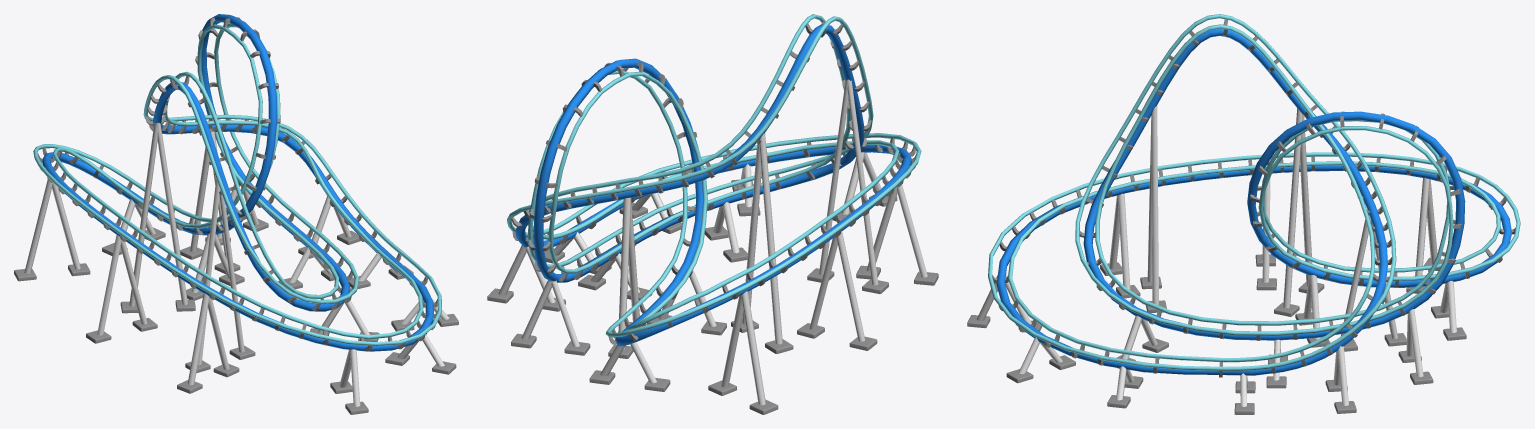
Rendered from roller_coaster_002.gltf.
3 renders of one model, left to right at view 1: azimuth 30°, elevation 25°; view 2: azimuth 150°, elevation 25°; view 3: azimuth 270°, elevation 25°, orthographic. The views are drawn at different scales.
Parts seen in each view (by area): view 1: roller_coaster_002; view 2: roller_coaster_002; view 3: roller_coaster_002.
Part boxes in pixels (x1=…): roller_coaster_002: x1=14, y1=14, x2=458, y2=414; roller_coaster_002: x1=487, y1=14, x2=938, y2=414; roller_coaster_002: x1=967, y1=14, x2=1520, y2=414.
Bounding box in the file's own units: 22.42 × 18.32 × 33.4.
Materials: 1 (1 with a texture image).
